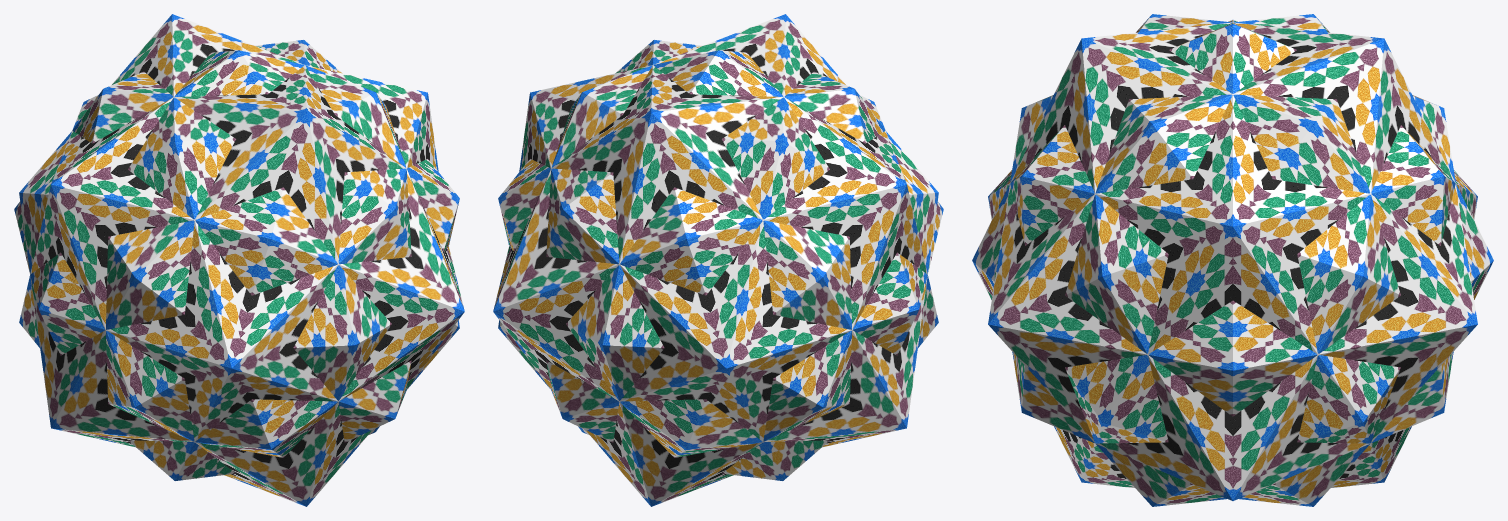
Rendered from 2MedialDeltoidalHexecontahedron.obj.
3 renders of one model, left to right at view 1: azimuth 30°, elevation 25°; view 2: azimuth 150°, elevation 25°; view 3: azimuth 270°, elevation 25°, orthographic. The views are drawn at different scales.
Size of the model in its own units: 2.68 by 2.68 by 2.68.
Materials: 1 (1 with a texture image).
